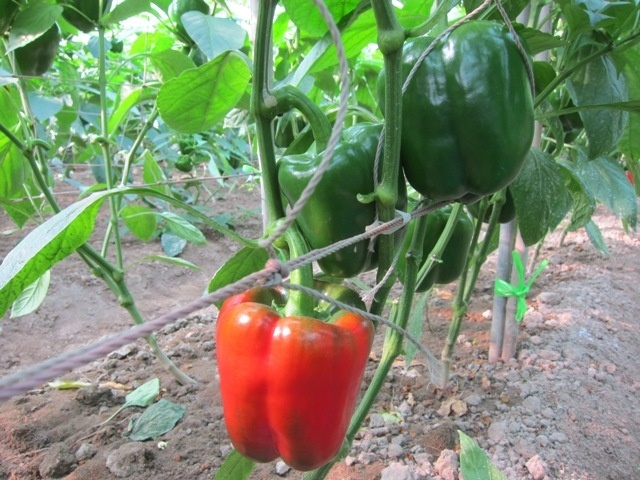fruit: (215, 281, 375, 472), (372, 18, 533, 205), (276, 121, 408, 280), (394, 190, 475, 294), (13, 20, 60, 77), (167, 1, 211, 47)
pedicle: (269, 296, 330, 318)
